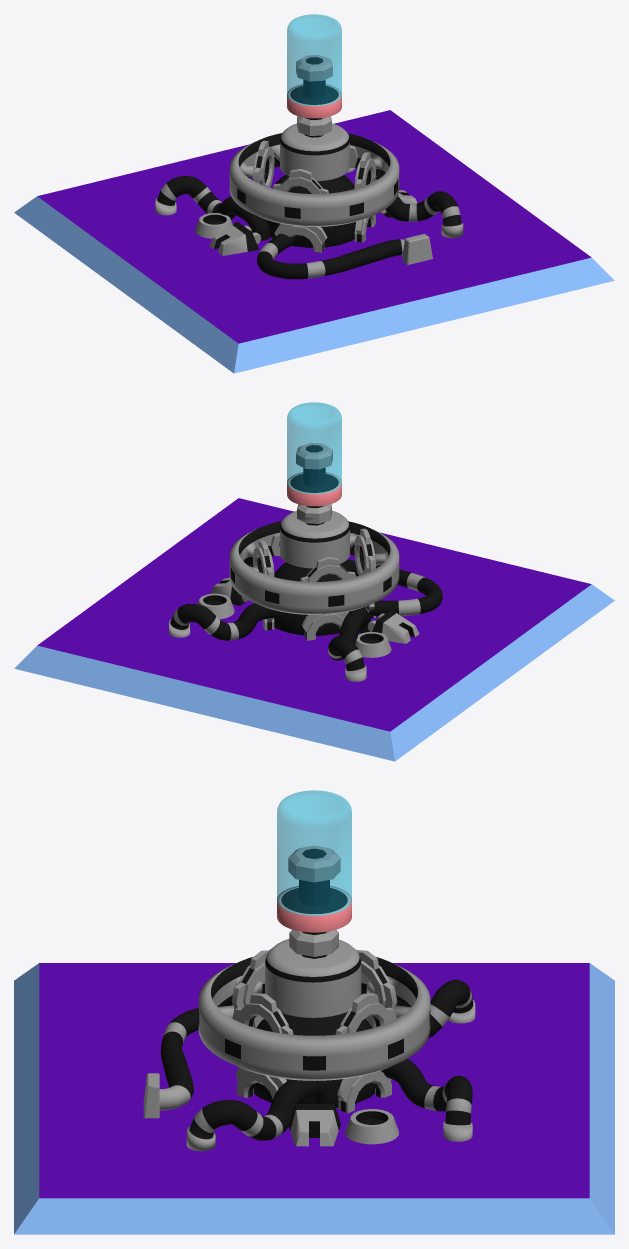
File: Haarvester alpha.fbx
3 views of the same model, one above another, from view 1: azimuth 30°, elevation 25°; view 2: azimuth 150°, elevation 25°; view 3: azimuth 270°, elevation 25° (orthographic). The views are drawn at different scales.
Parts seen in each view (by area): view 1: foundation_harvester1.001, pPipe5, pCylinder65.001, pCylinder69.001, pCylinder76, pCylinder83, pCylinder77, pSphere24, pump5, polySurface40.001, pPipe8, pCube110 (+5 smaller); view 2: foundation_harvester1.001, pPipe5, pCylinder65.001, pCylinder69.001, pCylinder82, pCylinder76, pCylinder83, pSphere24, pump5, polySurface40.001, pPipe8.003, pPipe16 (+5 smaller); view 3: foundation_harvester1.001, pPipe5, pCylinder65.001, pCylinder69.001, pCylinder77, pCylinder82, pCylinder76, pump5, pSphere24, polySurface40.003, pCylinder83, pPipe27 (+8 smaller).
Part boxes in pixels (x1,y1,x2,y2): foundation_harvester1.001: [14, 110, 614, 373]; pPipe5: [229, 133, 399, 226]; pCylinder65.001: [287, 14, 341, 118]; pCylinder69.001: [280, 123, 349, 181]; pCylinder76: [257, 233, 404, 279]; pCylinder83: [155, 176, 270, 240]; pCylinder77: [385, 191, 463, 238]; pSphere24: [267, 175, 355, 247]; pump5: [296, 55, 332, 137]; polySurface40.001: [209, 221, 258, 255]; pPipe8: [253, 140, 274, 187]; pCube110: [402, 234, 432, 264]; foundation_harvester1.001: [14, 498, 614, 761]; pPipe5: [229, 521, 399, 614]; pCylinder65.001: [287, 402, 341, 506]; pCylinder69.001: [280, 510, 349, 568]; pCylinder82: [169, 603, 284, 640]; pCylinder76: [343, 559, 442, 616]; pCylinder83: [328, 607, 370, 681]; pSphere24: [274, 562, 364, 635]; pump5: [296, 443, 332, 525]; polySurface40.001: [372, 609, 419, 643]; pPipe8.003: [354, 528, 375, 575]; pPipe16: [355, 632, 391, 657]; foundation_harvester1.001: [14, 963, 614, 1234]; pPipe5: [198, 957, 430, 1080]; pCylinder65.001: [277, 790, 351, 932]; pCylinder69.001: [265, 939, 361, 1017]; pCylinder77: [186, 1079, 330, 1151]; pCylinder82: [381, 1059, 472, 1141]; pCylinder76: [159, 1008, 198, 1110]; pump5: [288, 845, 340, 958]; pSphere24: [253, 1011, 375, 1107]; polySurface40.003: [288, 1104, 340, 1146]; pCylinder83: [428, 979, 475, 1037]; pPipe27: [345, 1109, 398, 1144].
Bounding box in the file's own units: 200 × 120 × 200.
Materials: 3 (2 with a texture image).
